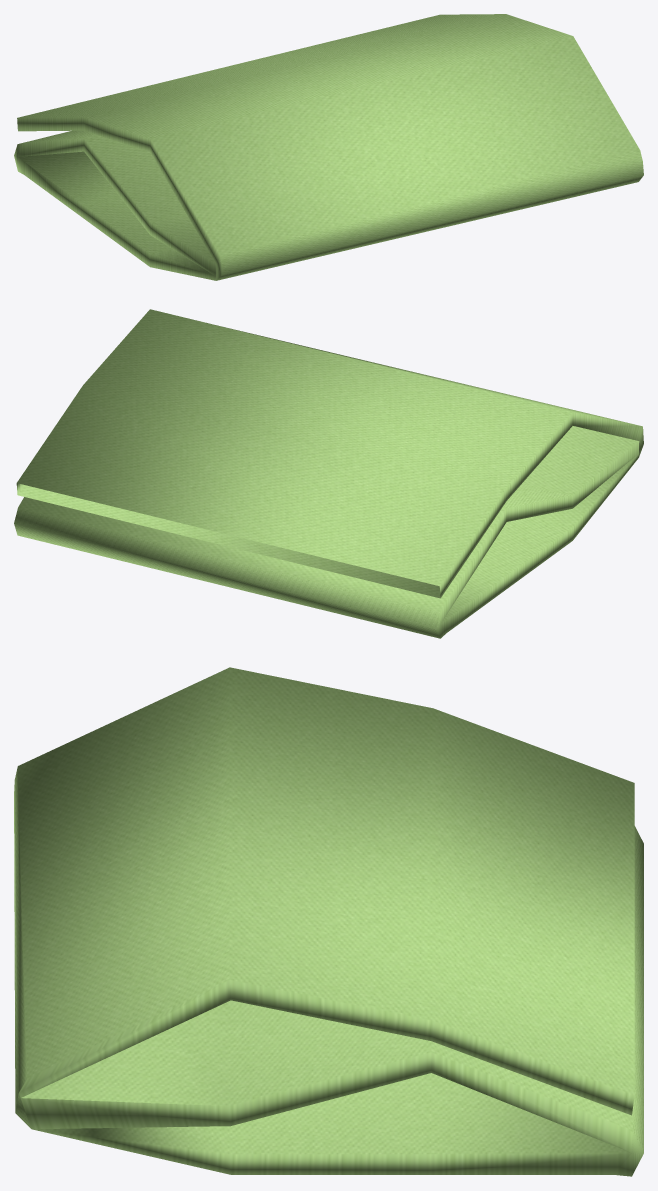
The model's file is Blanket_B.FBX.
3 views of the same model, one above another, from view 1: azimuth 30°, elevation 25°; view 2: azimuth 150°, elevation 25°; view 3: azimuth 270°, elevation 25° (orthographic). The views are drawn at different scales.
Visible parts, largest first — view 1: Blanket; view 2: Blanket; view 3: Blanket.
Boxes of the visible parts, box(x1,y1,x2,y2) form: Blanket: box(14, 14, 643, 280); Blanket: box(14, 309, 643, 638); Blanket: box(14, 667, 643, 1176).
Size of the model in its own units: 123 by 35.98 by 105.
